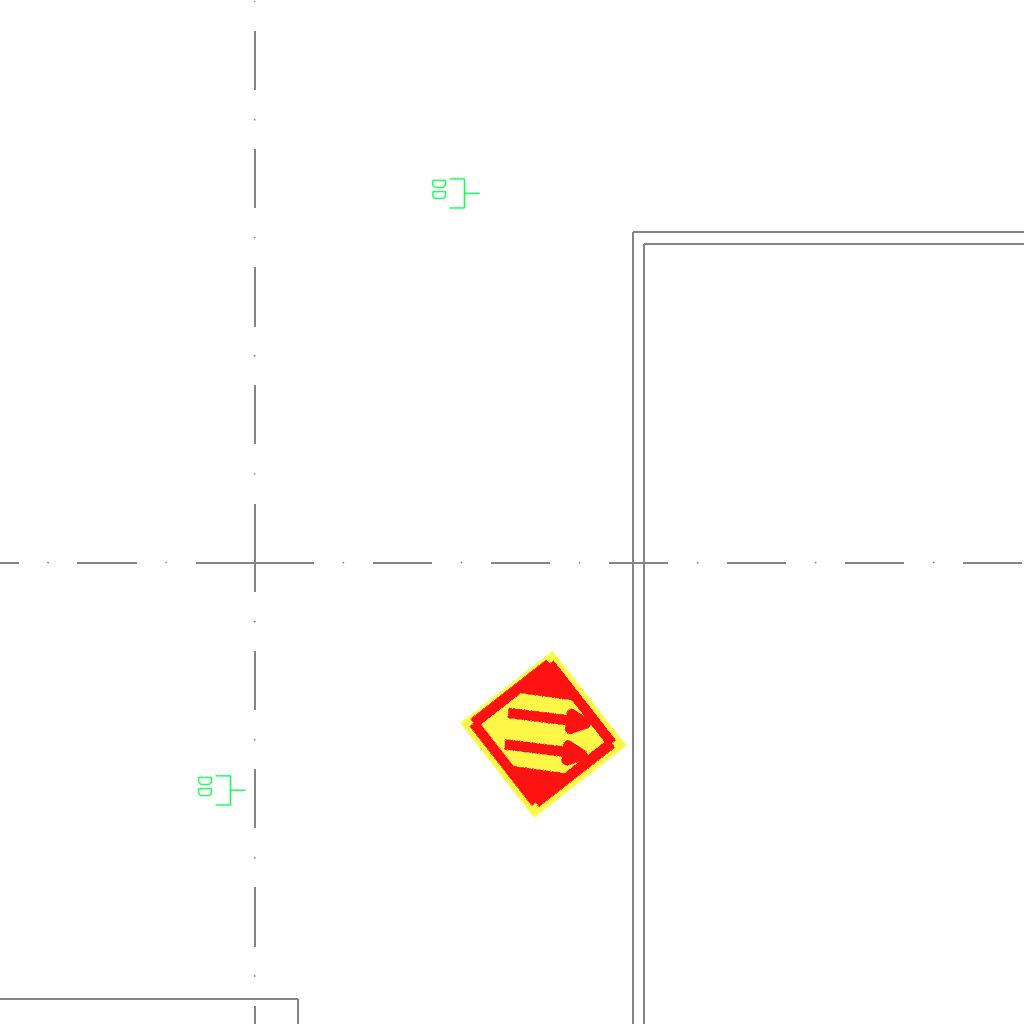ASR_Ansaugrauchmelder: (455, 646, 632, 823)
Datenanschluss_zweifach: (430, 176, 481, 210), (196, 773, 247, 807)
